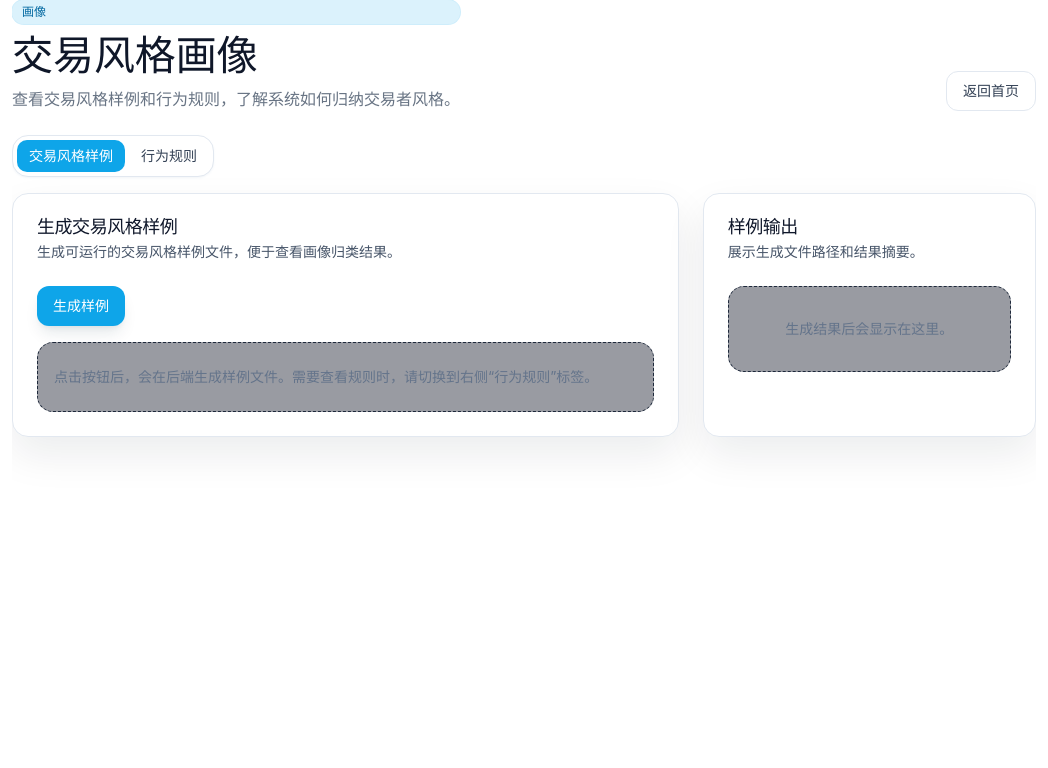
Test case: persona page › shows sample clusters and behavior rules in separate tabs
Expected: the heading "交易风格画像" is shown, [12,30,258,80]
Expected: the button "交易风格样例" is shown, [17,140,125,172]
Click the button "行为规则": (169, 156) [129,140,209,172]
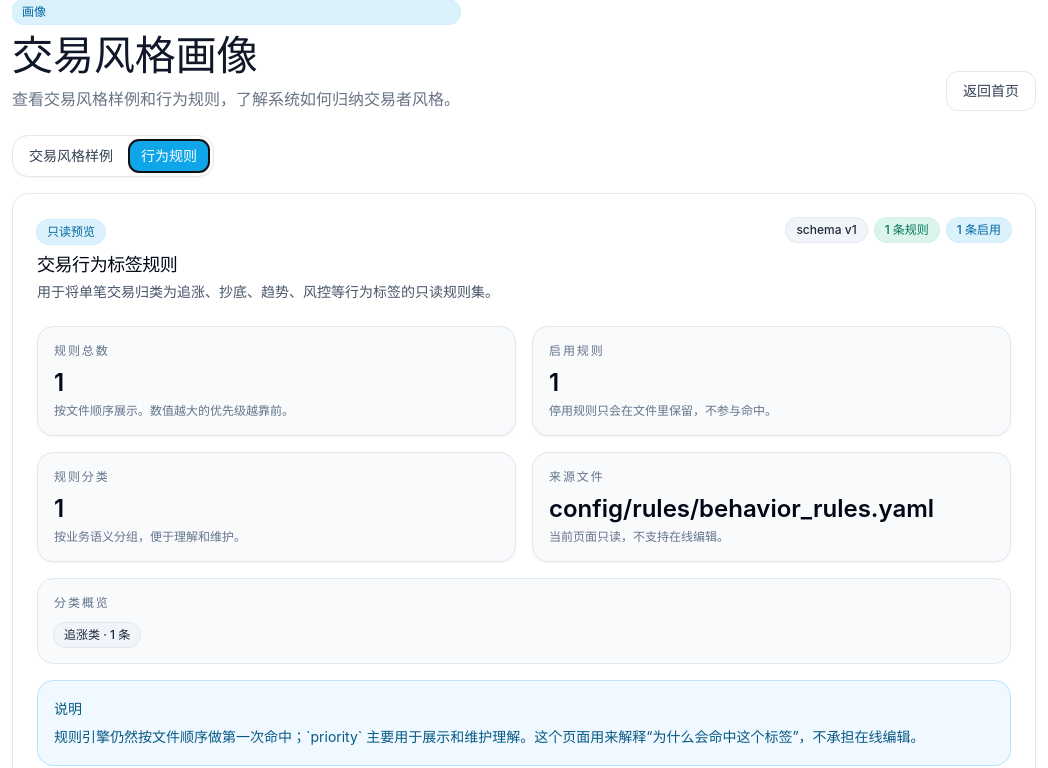
Result: the heading "交易行为标签规则" is shown at [37,254,177,275]
Result: the text "只读预览" is shown at [37,220,105,244]
